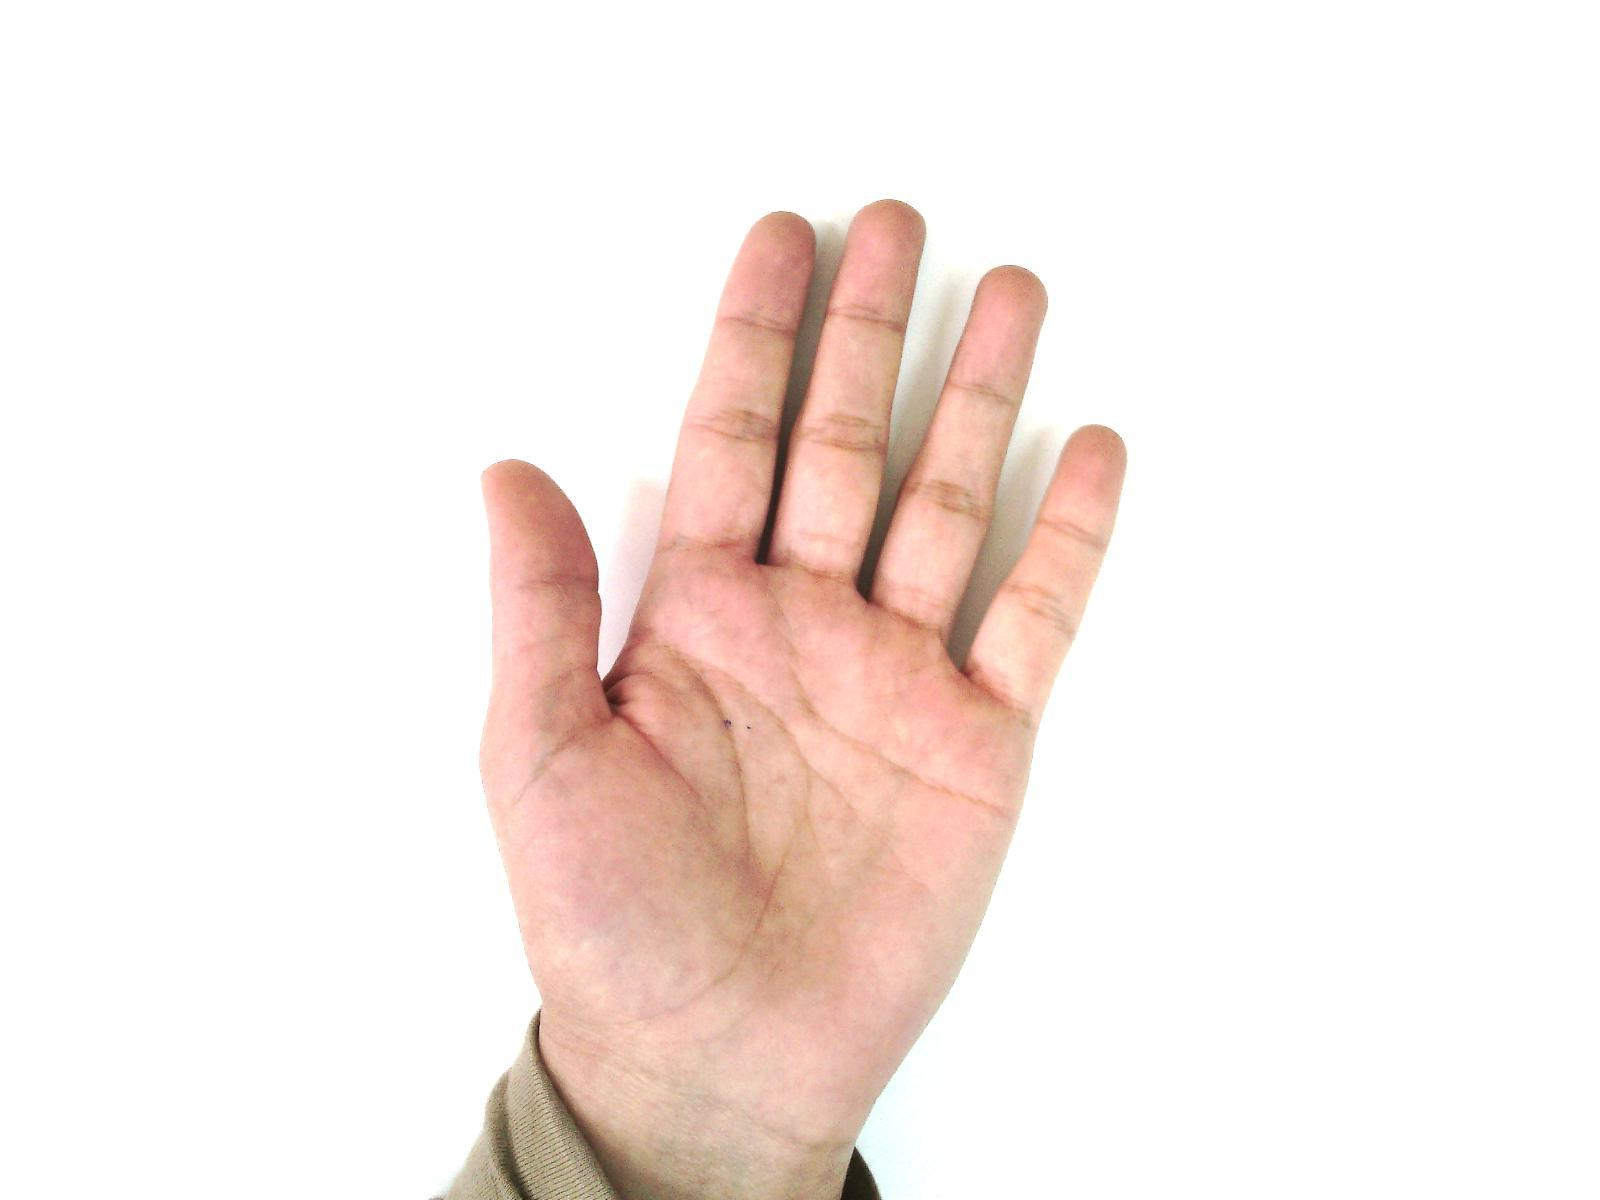hand: (466, 182, 1129, 1059)
